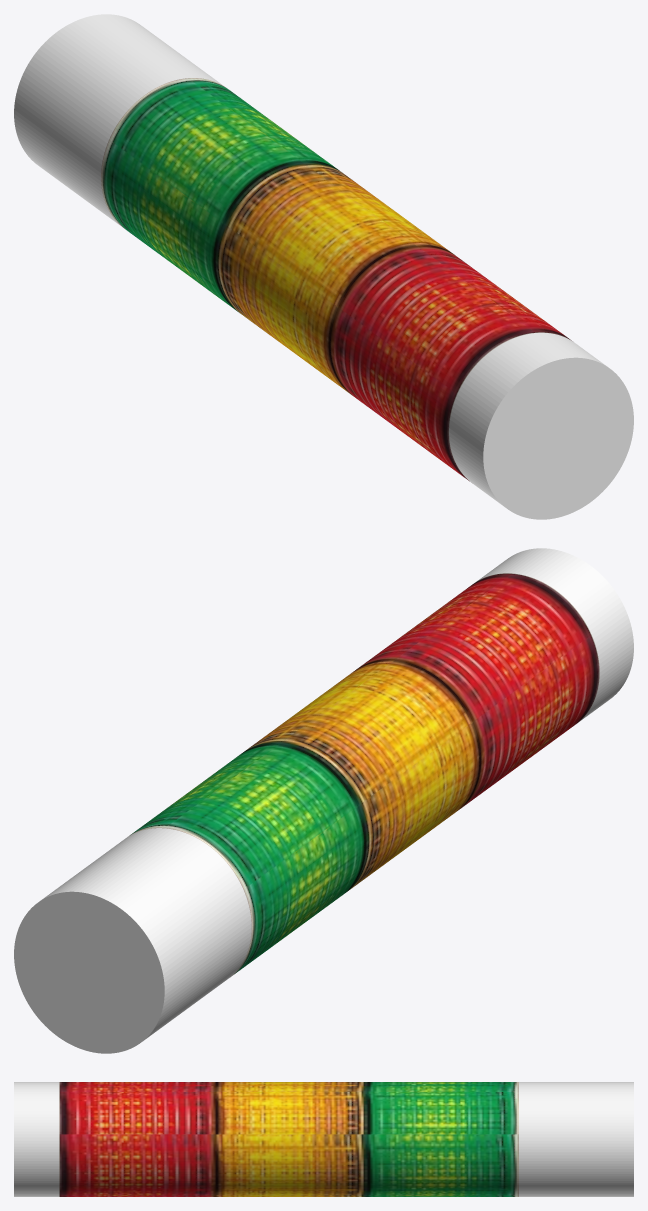
Rendered from light.obj.
The picture shows the model from 3 angles, top to bottom: view 1: azimuth 30°, elevation 25°; view 2: azimuth 150°, elevation 25°; view 3: azimuth 270°, elevation 25°; orthographic projection. The views are drawn at different scales.
Visible parts, largest first — view 1: Object.1, Object.2, Object.3; view 2: Object.1, Object.3, Object.2; view 3: Object.1, Object.3, Object.2.
Part boxes in pixels (bbox=[...]): Object.1: bbox=[101, 78, 571, 481]; Object.2: bbox=[449, 332, 633, 519]; Object.3: bbox=[14, 14, 224, 226]; Object.1: bbox=[129, 573, 599, 977]; Object.3: bbox=[14, 828, 251, 1053]; Object.2: bbox=[476, 548, 633, 722]; Object.1: bbox=[59, 1082, 518, 1196]; Object.3: bbox=[519, 1082, 633, 1196]; Object.2: bbox=[14, 1082, 59, 1196].
Bounding box in the file's own units: 40 × 40 × 216.
Materials: 3 (1 with a texture image).
